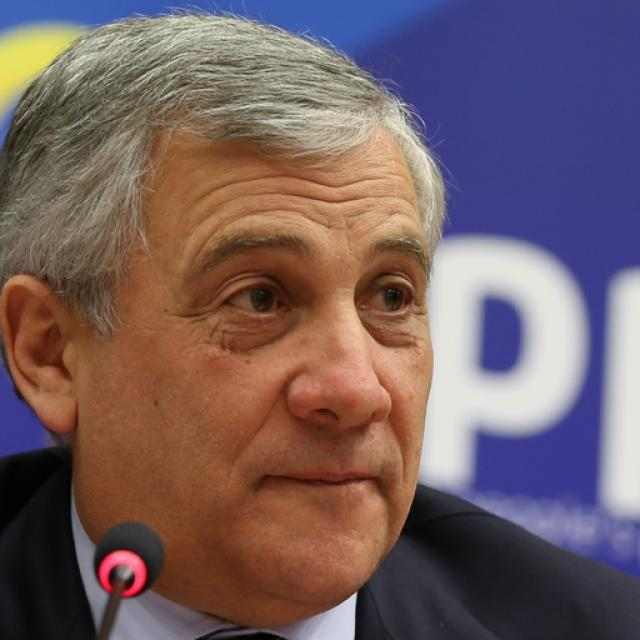surprise: (98, 112, 432, 598)
